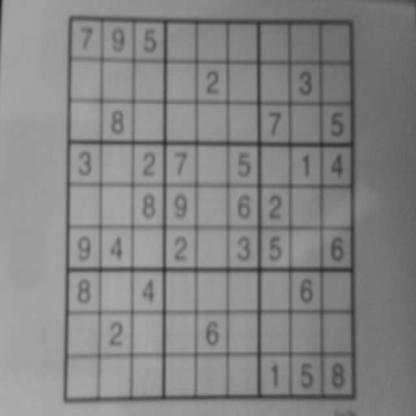sudoku: (61, 11, 361, 406)
